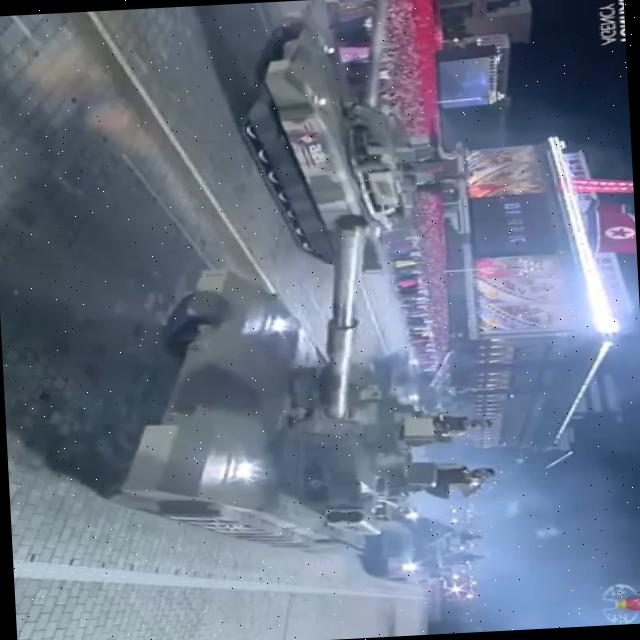north tank: (81, 211, 453, 575), (233, 0, 438, 287), (357, 499, 479, 591), (359, 328, 466, 428)
